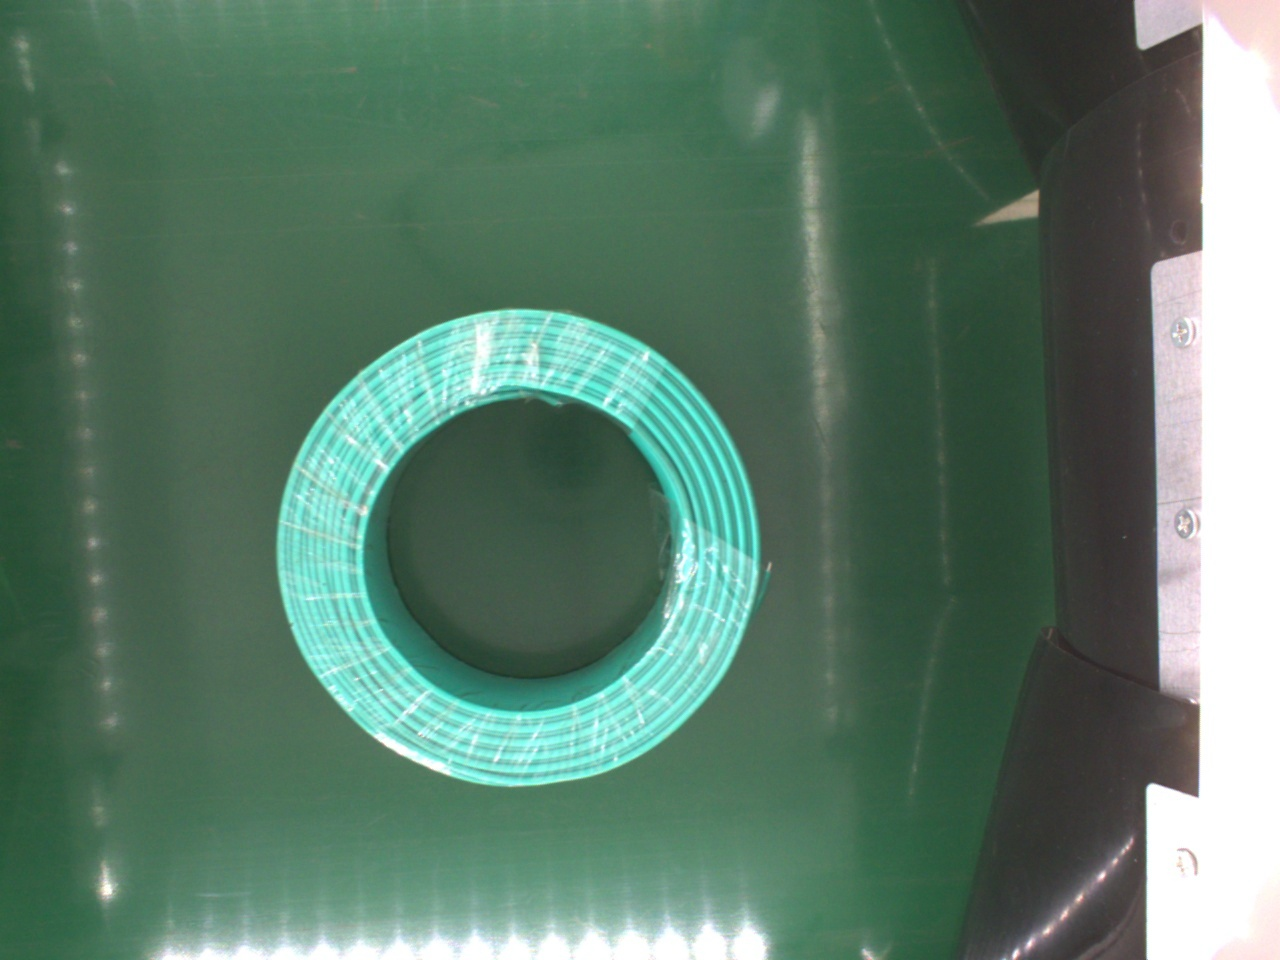green: (276, 305, 763, 785)
